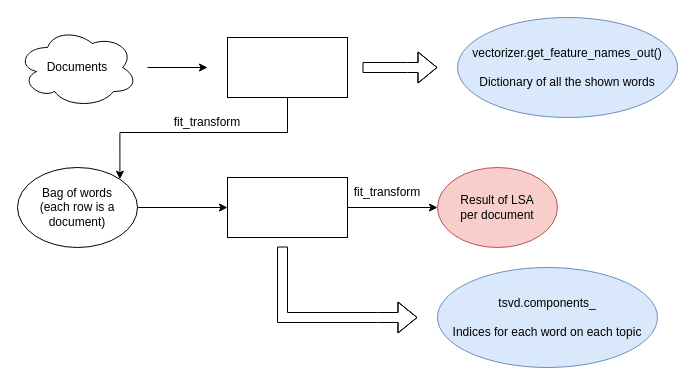
Some shapes in this 695 by 385 pixel diagram are drawn without their labels. Here are the shapes that lost their labels. From the top down, the centre of each, then its label:
the point at 287,67: Vectorizer (Count / TF-IDF)
the point at 287,207: TSVD （An object）
